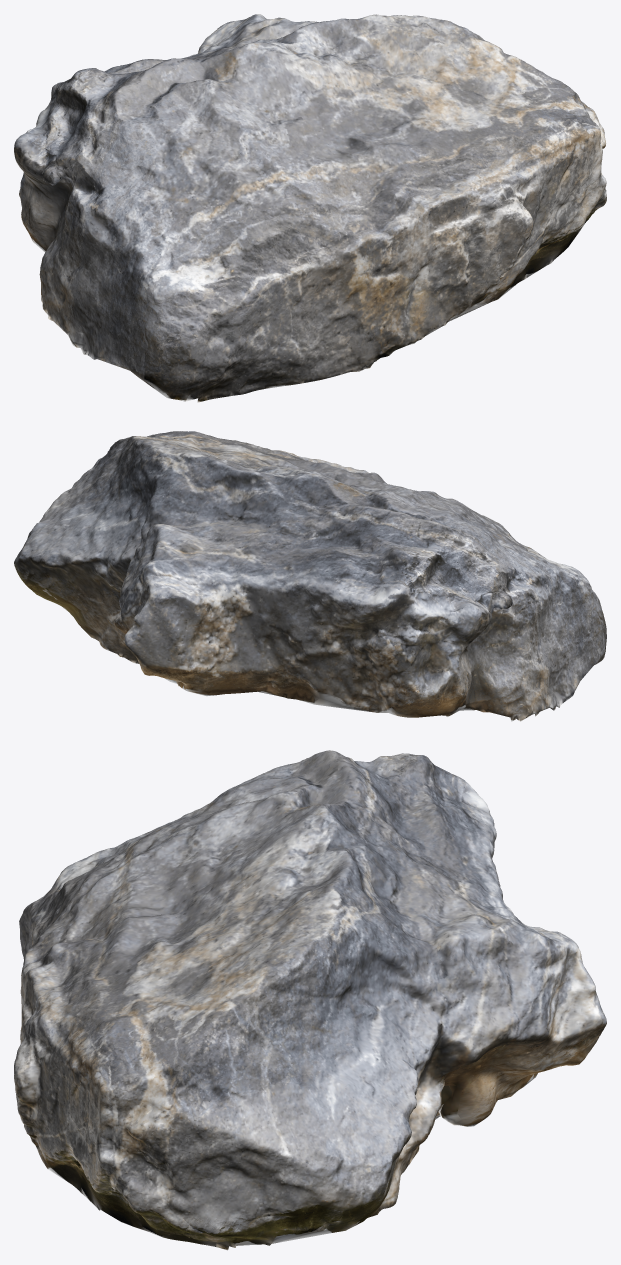
The model's file is sparse4.glb.
3 renders of one model, top to bottom at view 1: azimuth 30°, elevation 25°; view 2: azimuth 150°, elevation 25°; view 3: azimuth 270°, elevation 25°, orthographic. The views are drawn at different scales.
Bounding box in the file's own units: 5.43 × 2.44 × 4.14.
1 material, 1 textured.
